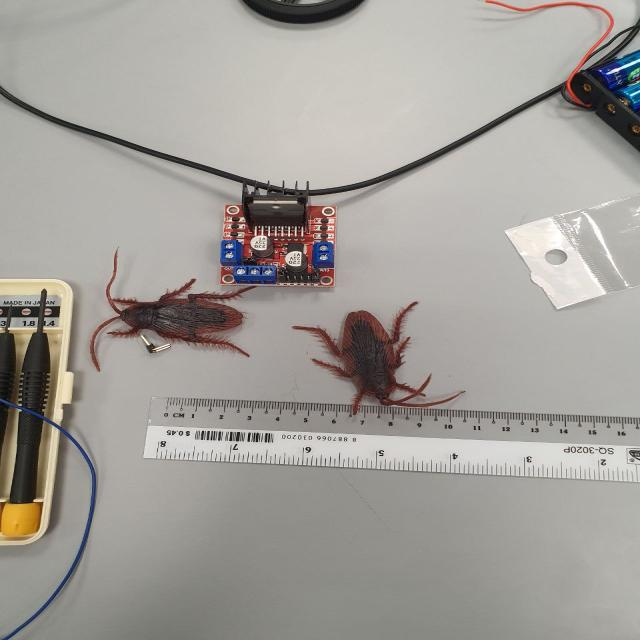Cockroach: (286, 288, 470, 420), (84, 251, 273, 373)
